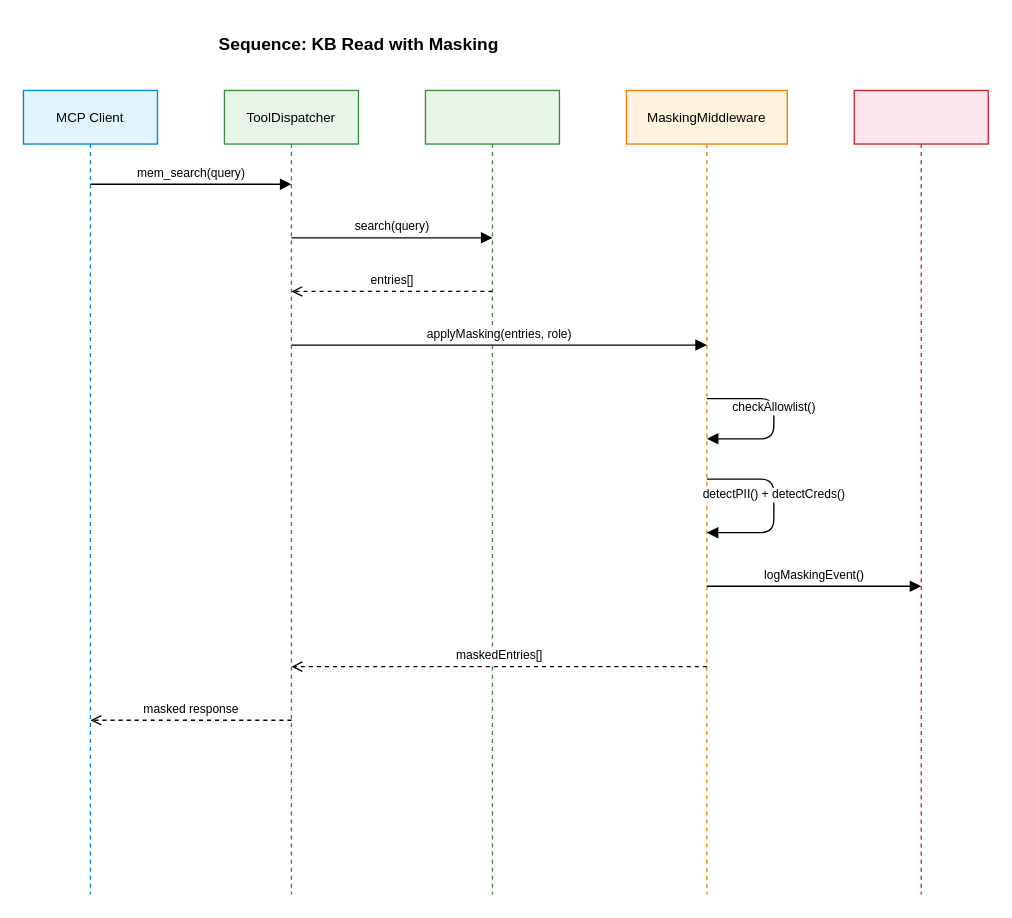
Some shapes in this 1012 by 918 pixel diagram are drawn without their labels. Each missing label, with the box of its shape:
AuditService: (853, 89, 988, 894)
MemoryEngine: (424, 89, 559, 894)
